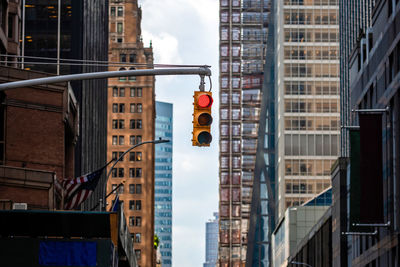red: (192, 90, 213, 146)
